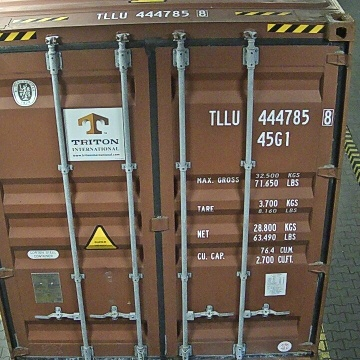serial_id: (209, 109, 333, 125)
